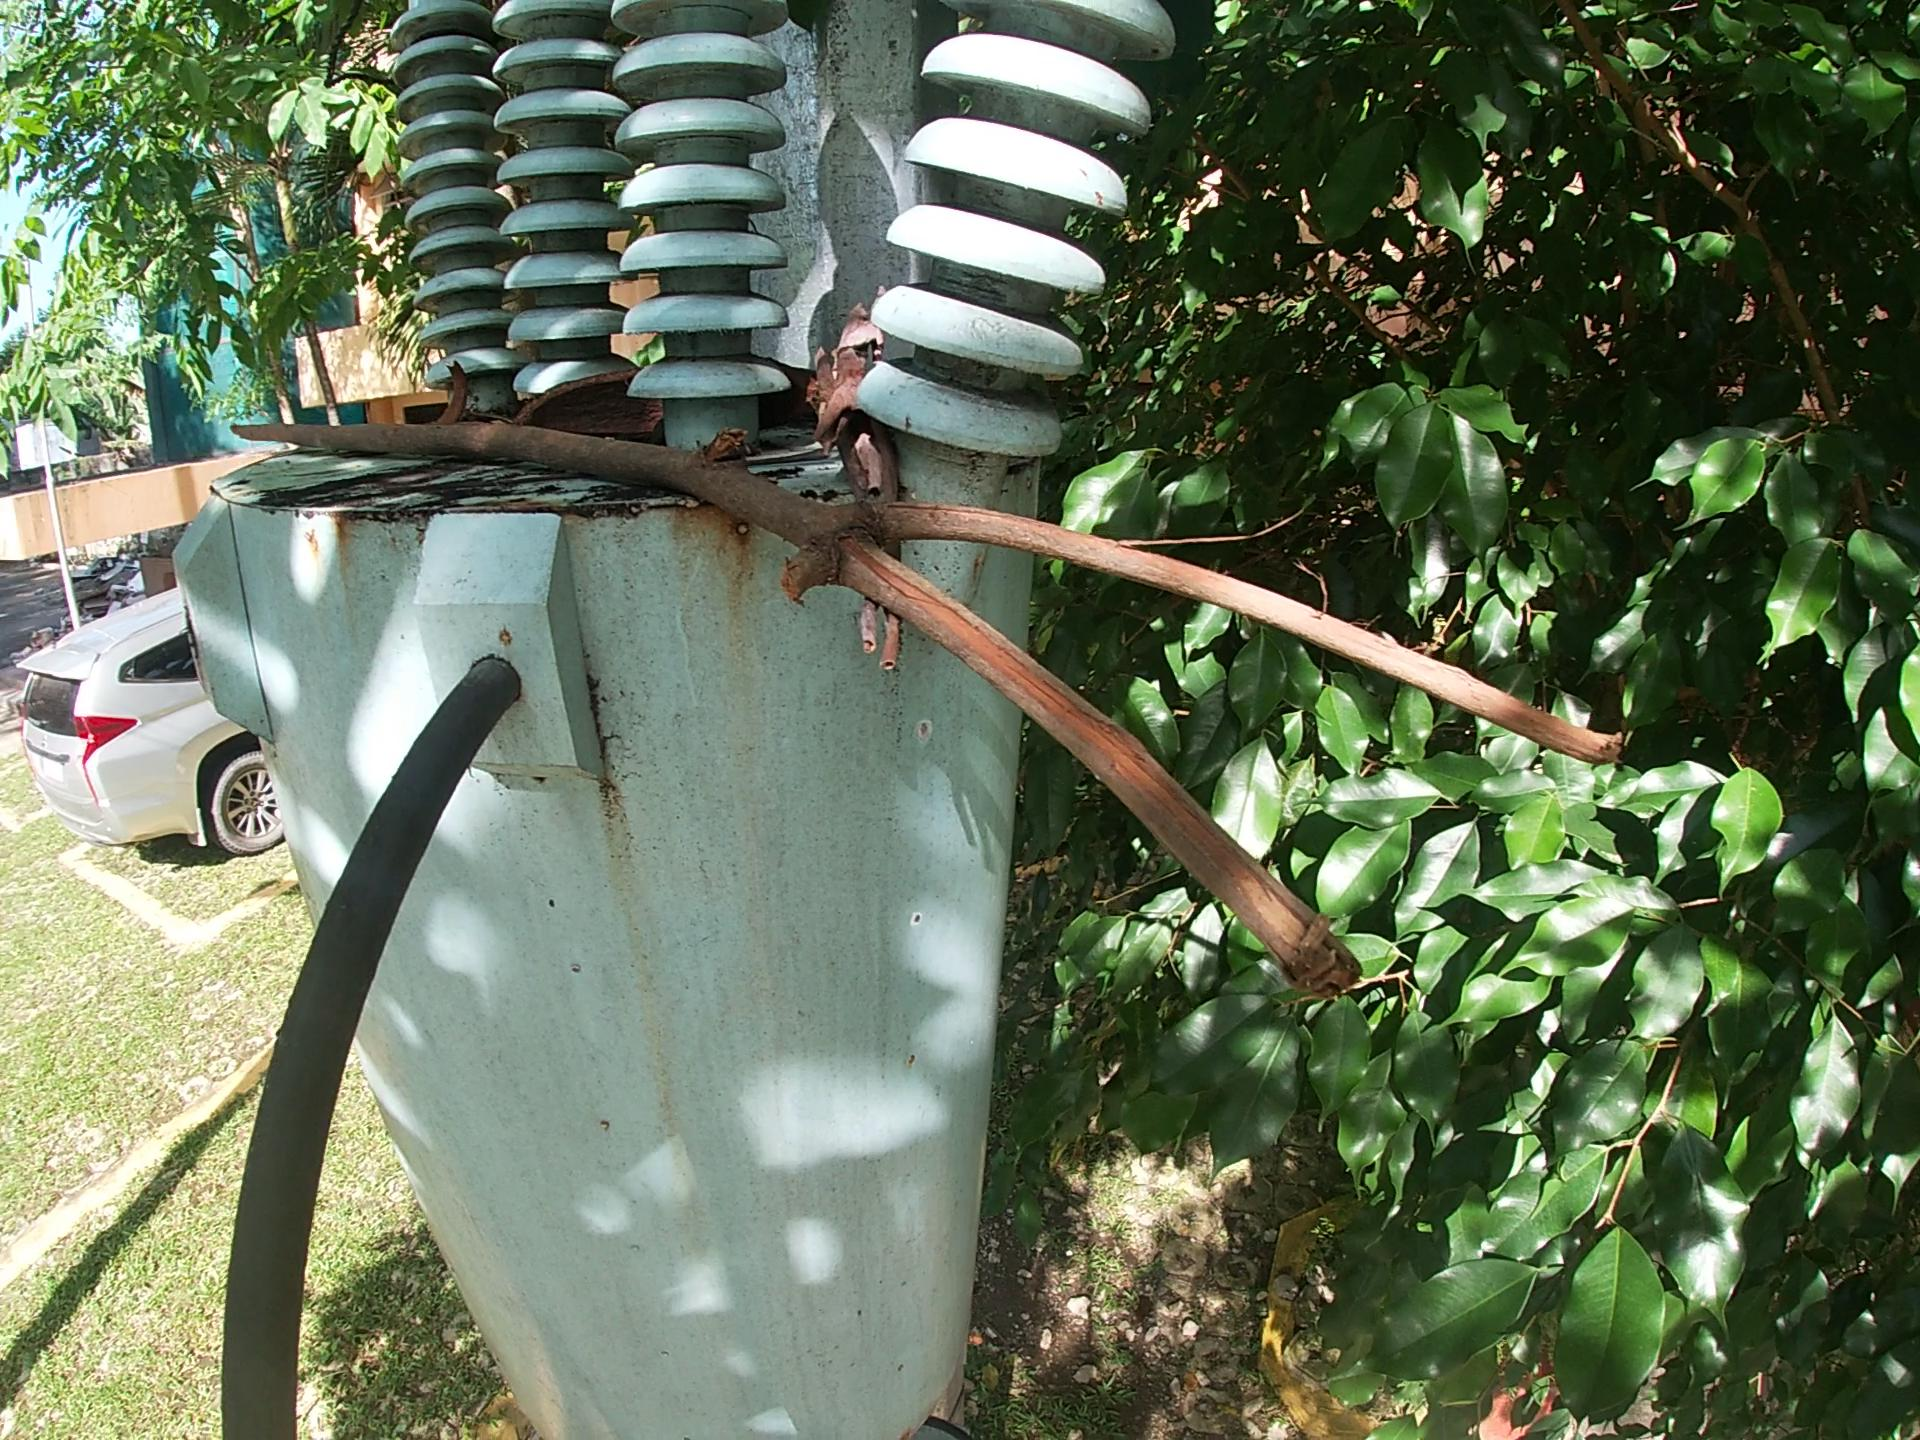mahogany fruit: (508, 352, 824, 442), (432, 358, 476, 425)
tree branch: (219, 407, 1633, 1013), (813, 281, 915, 685)
